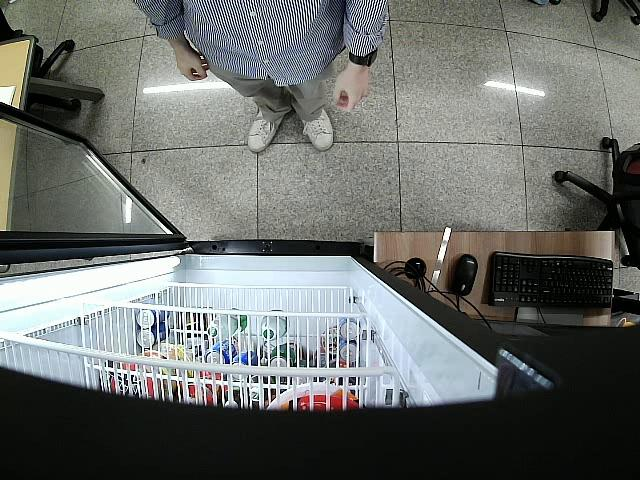00_hand: (332, 71, 368, 113), (175, 49, 211, 81)
